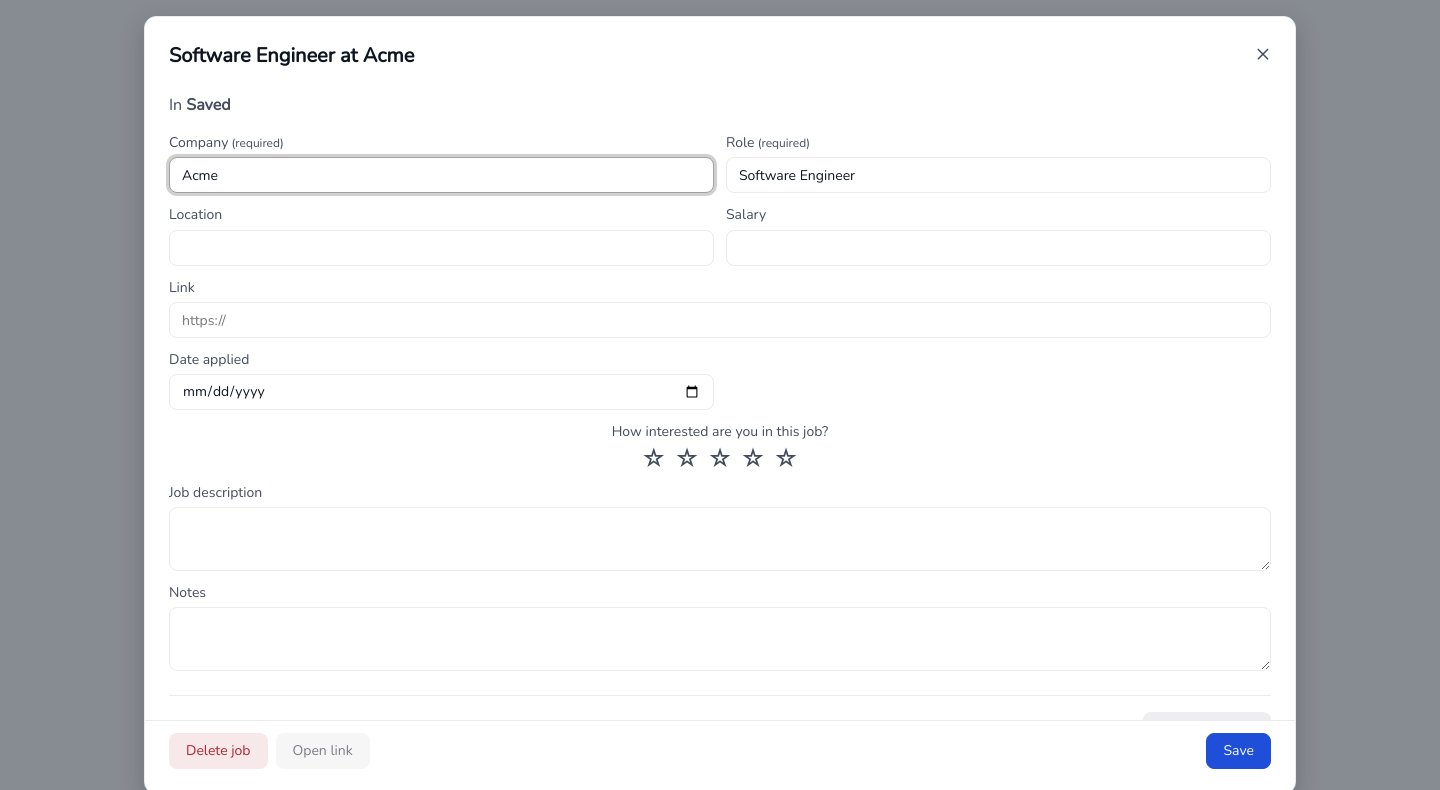
Test: JobDetails › doesn't save a link that isn't a web address
Type "not a url" into the field labelled "Link" at (720, 320), box [169, 302, 1271, 338]
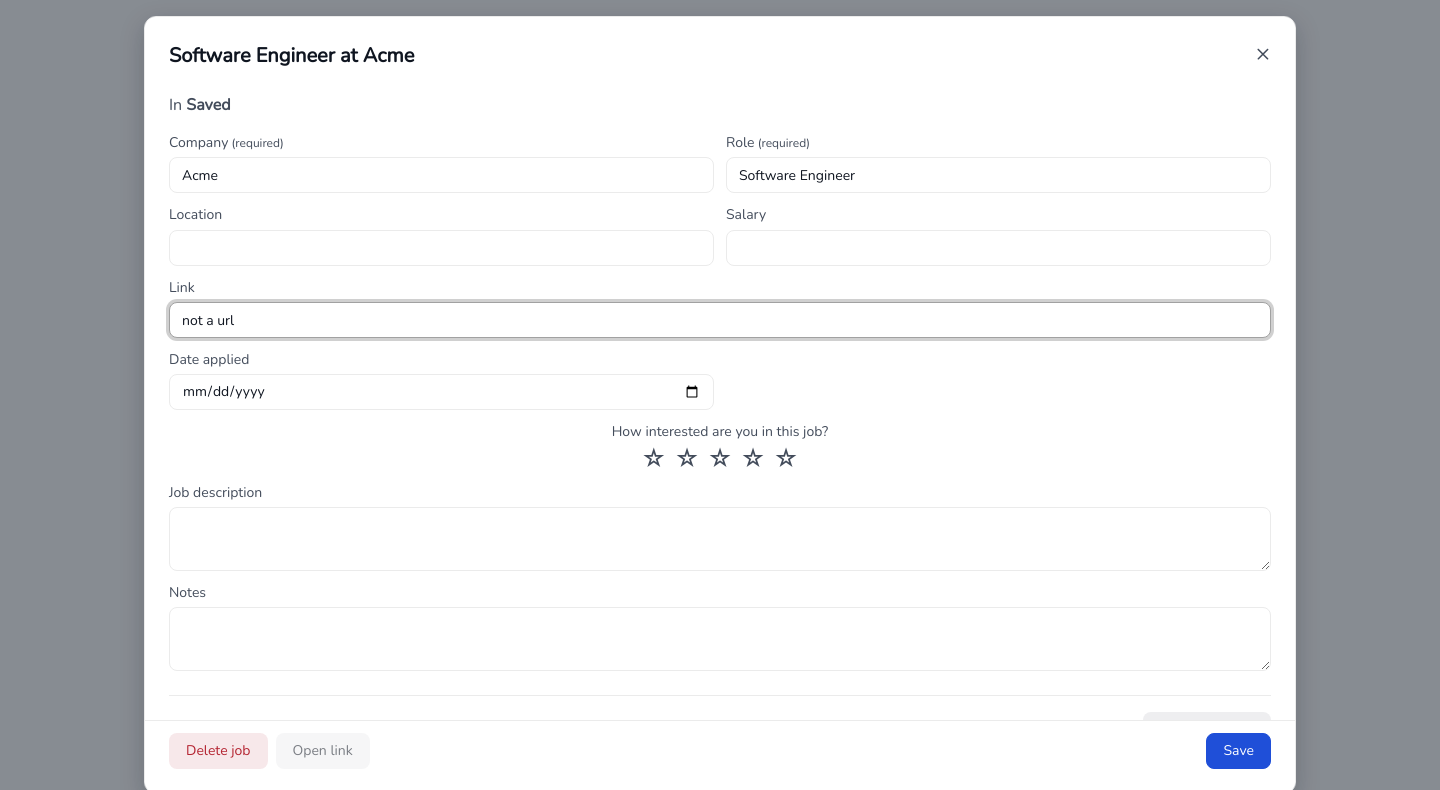
Click the button "Save" at (1239, 751), box [1206, 733, 1271, 769]
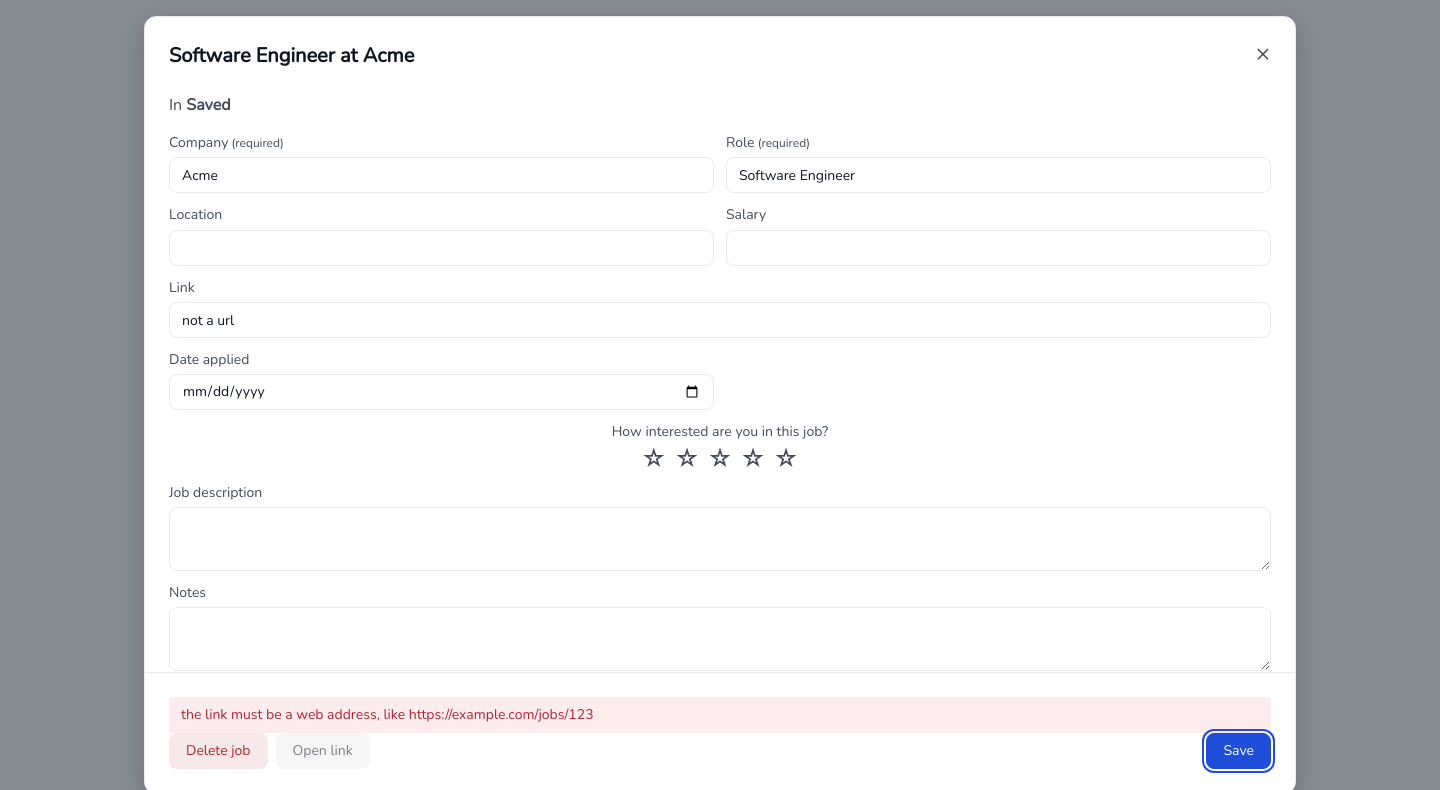
Check: the message shows "the link must be a web address", box [181, 705, 594, 724]
